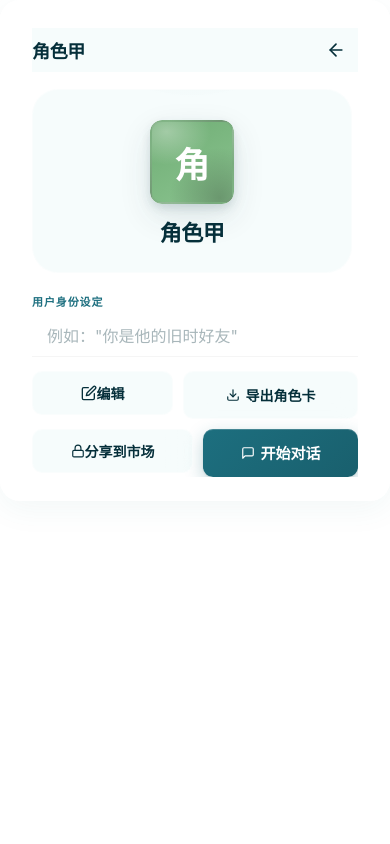
Test: 105：发布失败的文案要落到弹窗里 › 成功（拿到 card_id）：弹窗关闭，按钮变成「已分享」
Step 1. Click the button with id "card-share-btn" → [112, 450], box [32, 428, 193, 472]
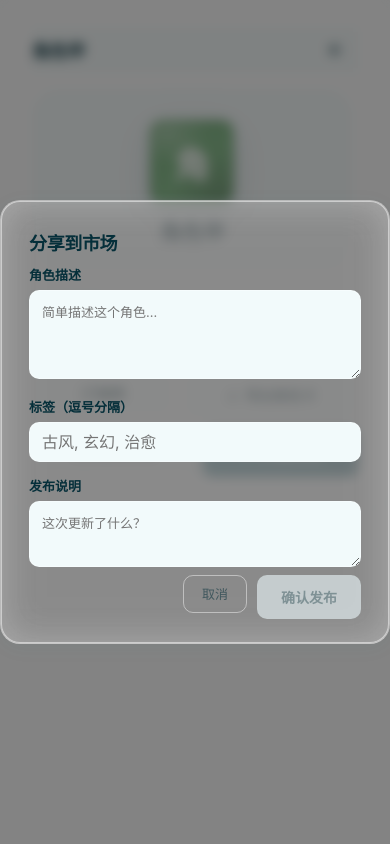
Step 2. Type "首版说明" into the text box with placeholder "这次更新了什么？" → [195, 534], box [29, 500, 361, 567]
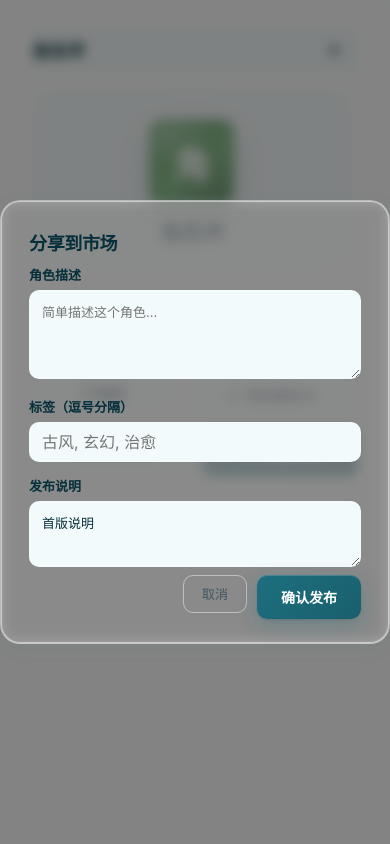
Step 3. Click the button "确认发布" → [309, 597], box [257, 575, 361, 619]
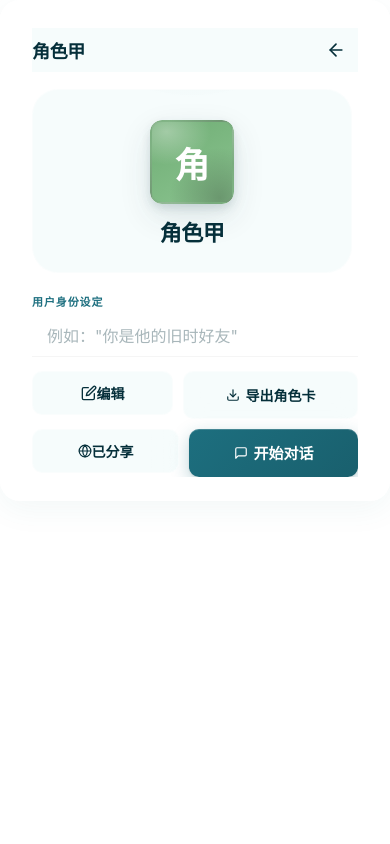
Check: the button with id "card-share-btn" reads "已分享", box [32, 428, 179, 472]
